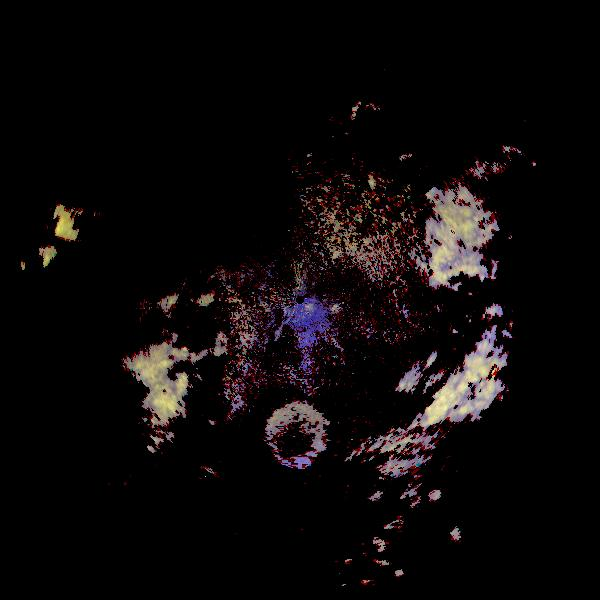roost: (257, 396, 338, 477)
